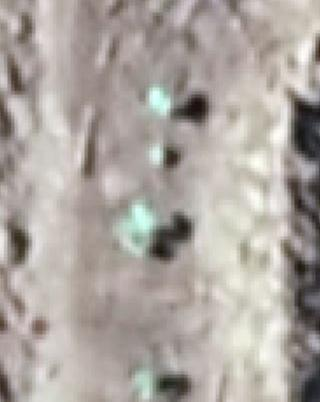cotton: (130, 202, 161, 233), (120, 224, 149, 251), (147, 84, 169, 115), (138, 369, 159, 398), (151, 145, 165, 165)
